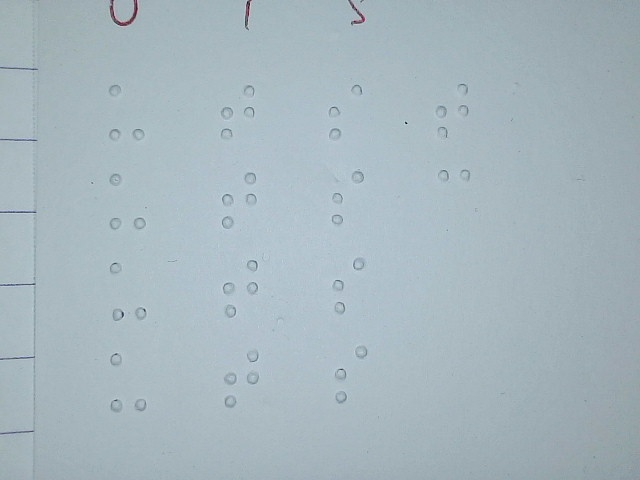S: (333, 343, 369, 404), (327, 82, 364, 140), (329, 168, 366, 226), (330, 256, 367, 314)
T: (222, 258, 259, 317), (223, 348, 260, 407), (219, 83, 256, 141), (220, 170, 257, 228)
U: (108, 260, 148, 321), (109, 351, 149, 412), (108, 83, 146, 142), (108, 171, 146, 230)
